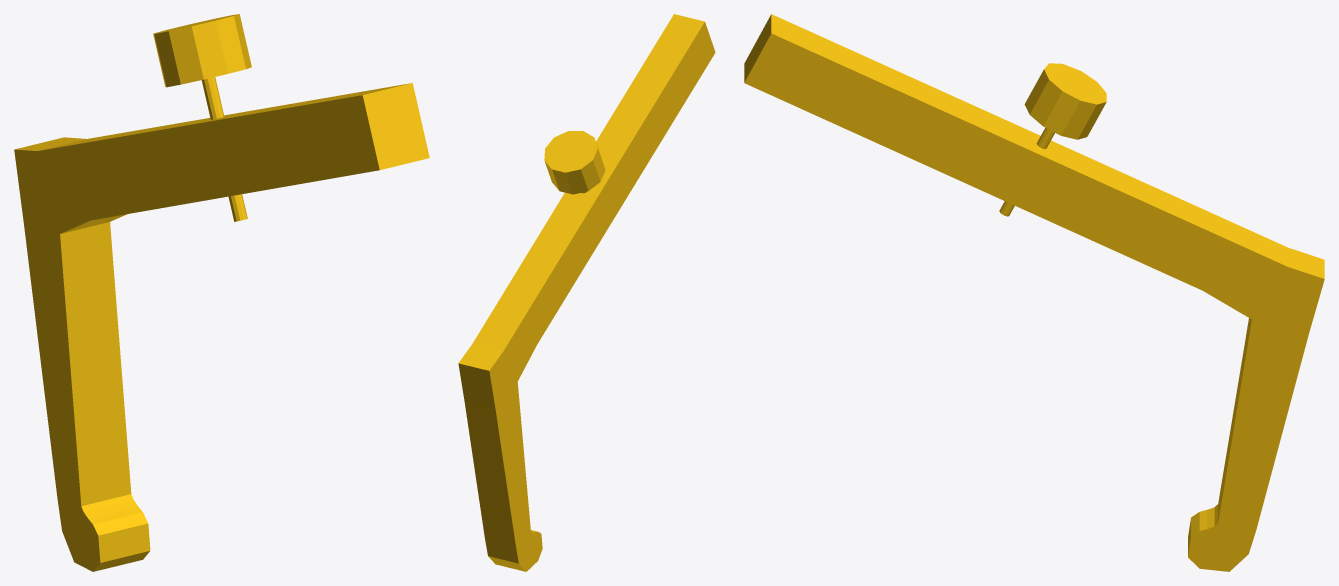
Rendered from key_jack.obj.
3 views of the same model, side by side, from view 1: azimuth 30°, elevation 25°; view 2: azimuth 150°, elevation 25°; view 3: azimuth 270°, elevation 25° (orthographic). The views are drawn at different scales.
Visible parts, largest first — view 1: white_keys.007_Cube.007; view 2: white_keys.007_Cube.007; view 3: white_keys.007_Cube.007.
Boxes of the visible parts, x1,y1,x2,y2 form: white_keys.007_Cube.007: (14, 14, 429, 571); white_keys.007_Cube.007: (458, 14, 715, 571); white_keys.007_Cube.007: (744, 14, 1324, 571).
Bounding box in the file's own units: 0.0075 × 0.0629 × 0.0614.
